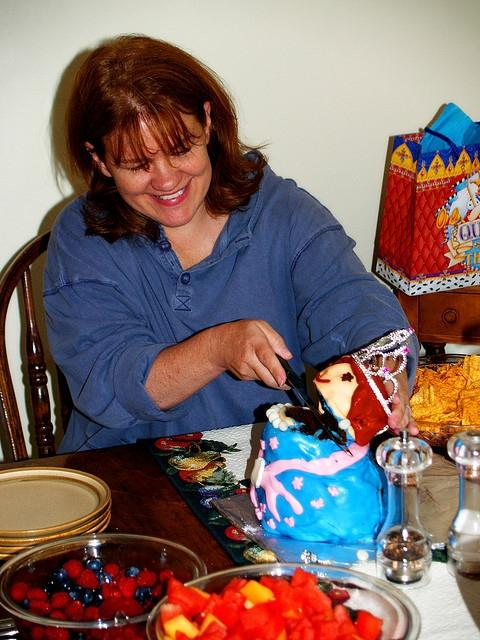blueberry: (198, 484, 226, 498), (134, 587, 152, 607), (44, 576, 61, 594), (200, 496, 221, 509), (86, 558, 102, 574), (97, 572, 113, 586), (80, 589, 94, 603), (93, 588, 105, 604), (124, 566, 140, 578), (148, 578, 159, 594), (62, 580, 72, 592), (20, 598, 30, 610), (72, 632, 86, 640), (69, 590, 80, 600), (81, 602, 89, 608)
